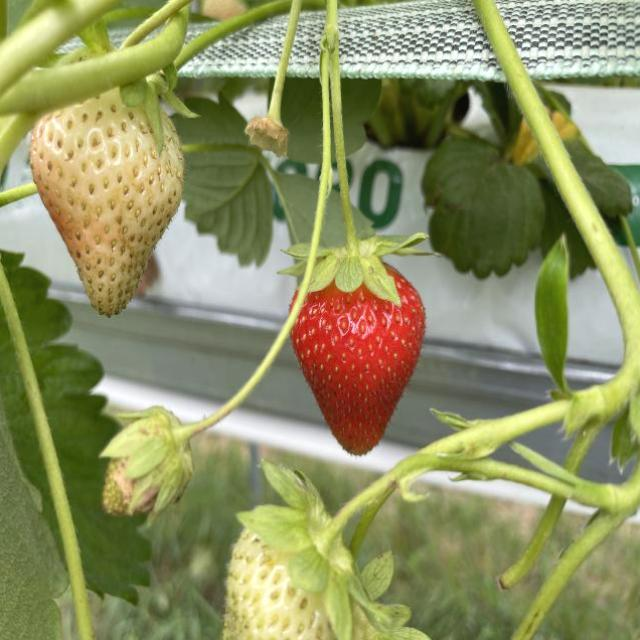stem: (310, 0, 427, 305)
strawberryNR: (31, 88, 184, 315)
strawberryR: (291, 264, 426, 454)
